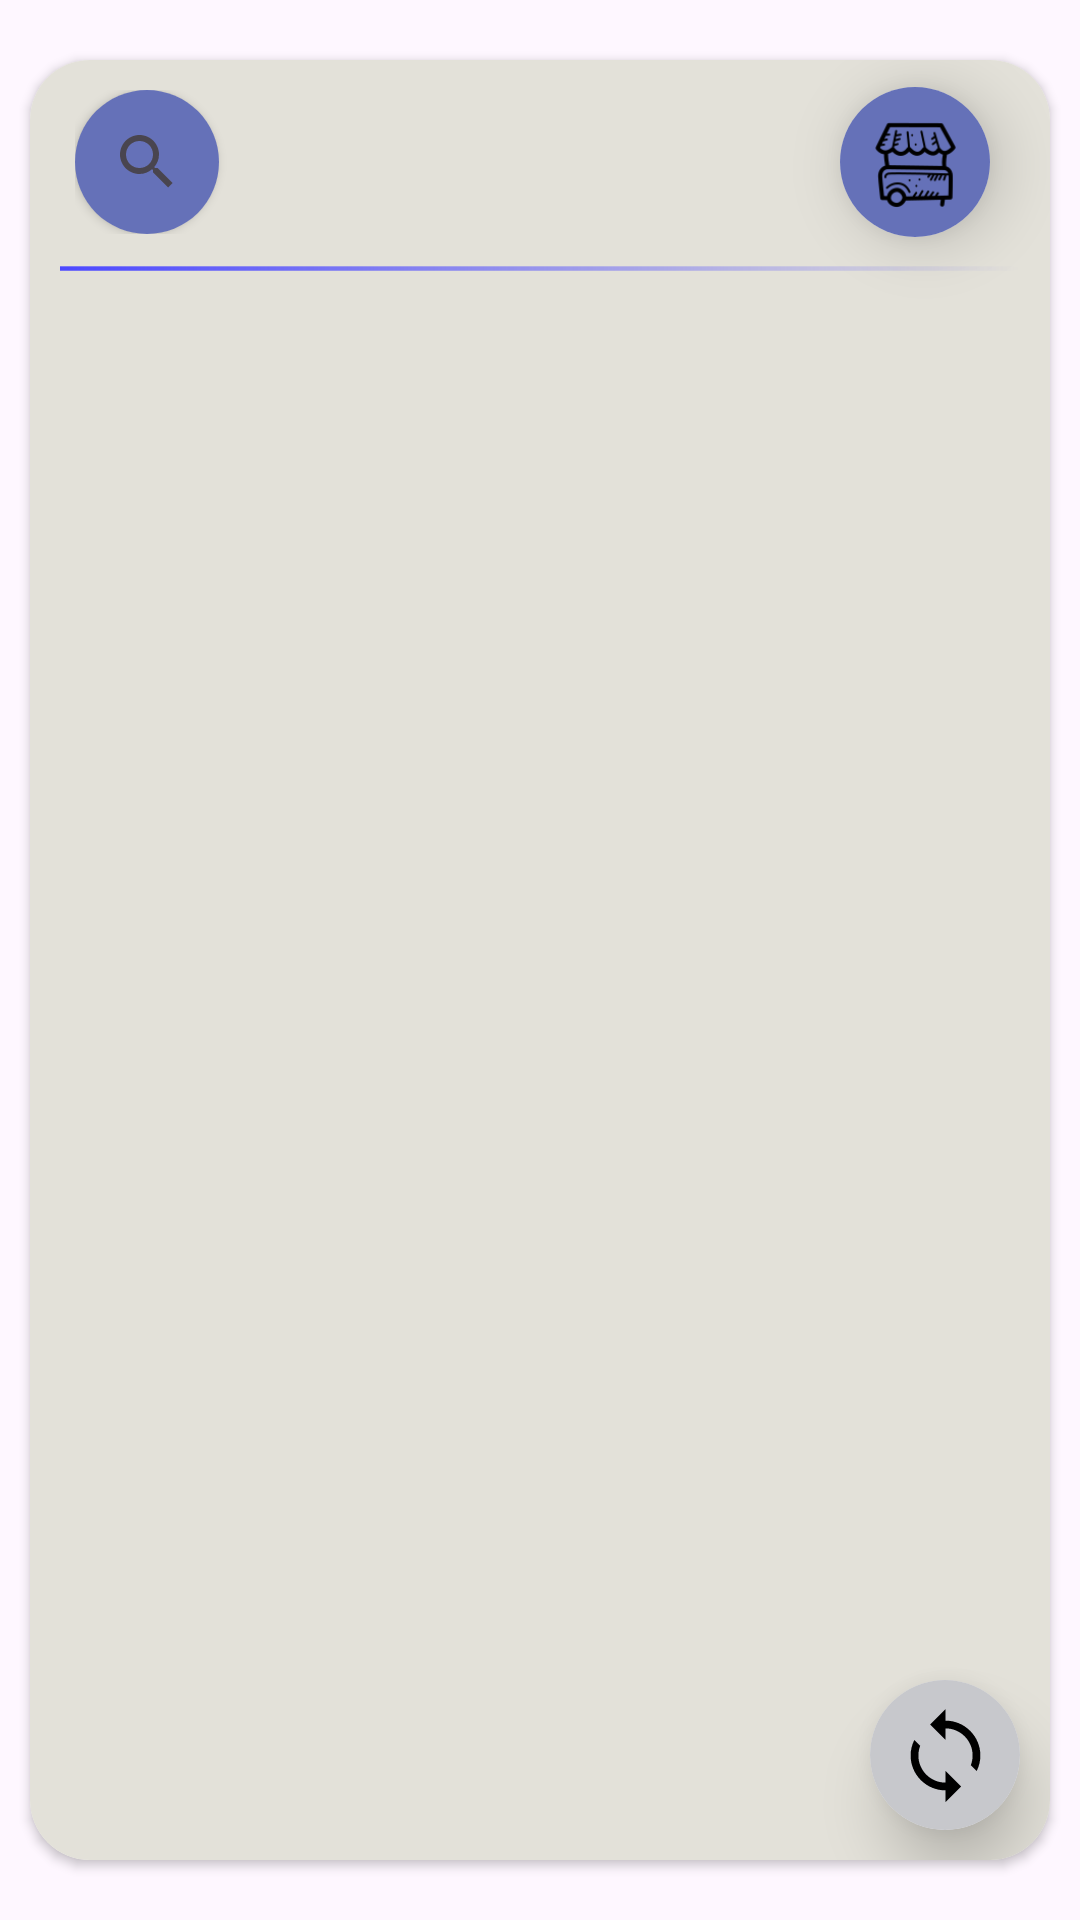

Icons on this 1080px x 1920px Android screen, each with its box as (x1,y1,x2,y2):
cart: (875,123,956,207)
reload: (910,1709,981,1802)
